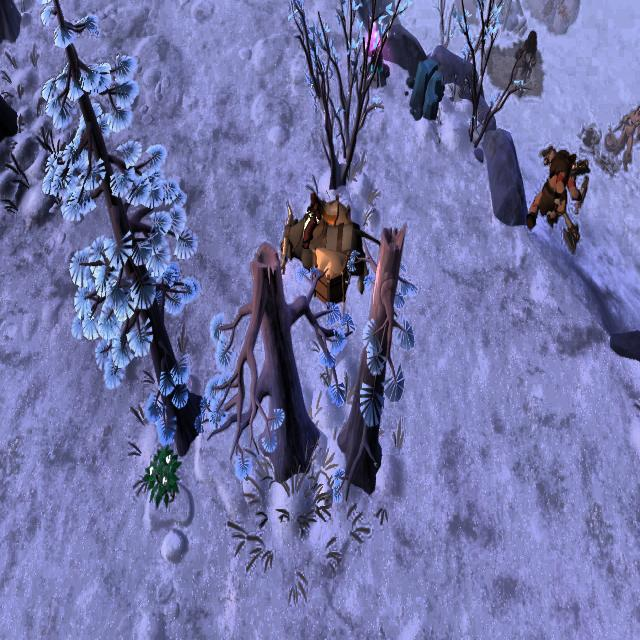enemy_factionKeeper: (532, 133, 585, 258), (512, 29, 539, 90), (610, 107, 640, 160)
fiber_t3: (140, 444, 179, 511)
ore_t4: (367, 43, 384, 76)
rock_t4: (406, 58, 449, 118)
